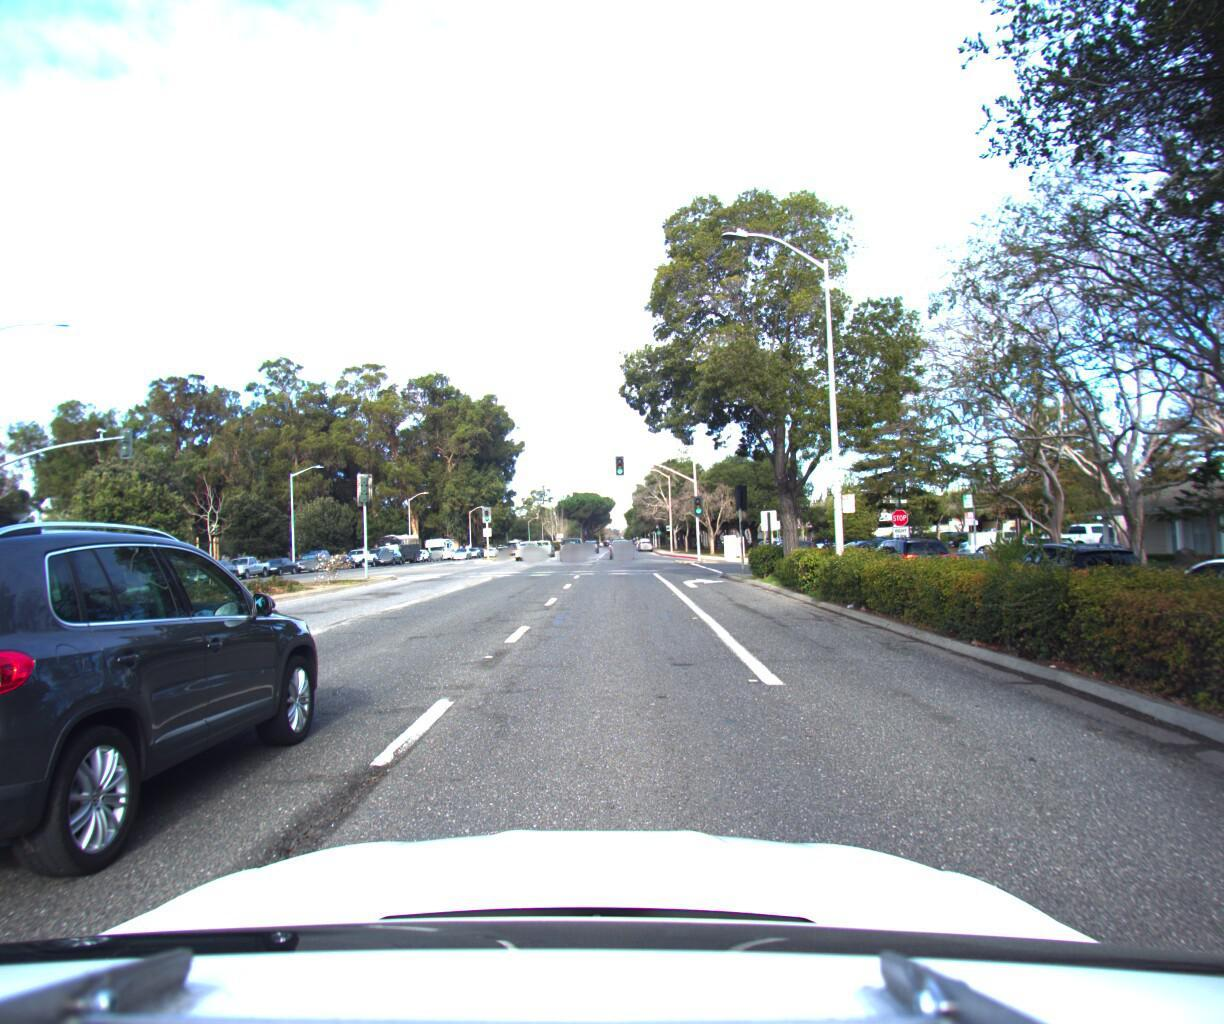car: (0, 502, 348, 951), (975, 526, 1162, 614), (1105, 539, 1224, 662), (852, 522, 957, 582), (944, 513, 1032, 550), (1048, 513, 1135, 546), (219, 545, 277, 574), (291, 540, 336, 566), (254, 547, 302, 571), (340, 537, 380, 561), (555, 529, 586, 553), (511, 535, 543, 557), (605, 530, 633, 551), (534, 534, 558, 552)
